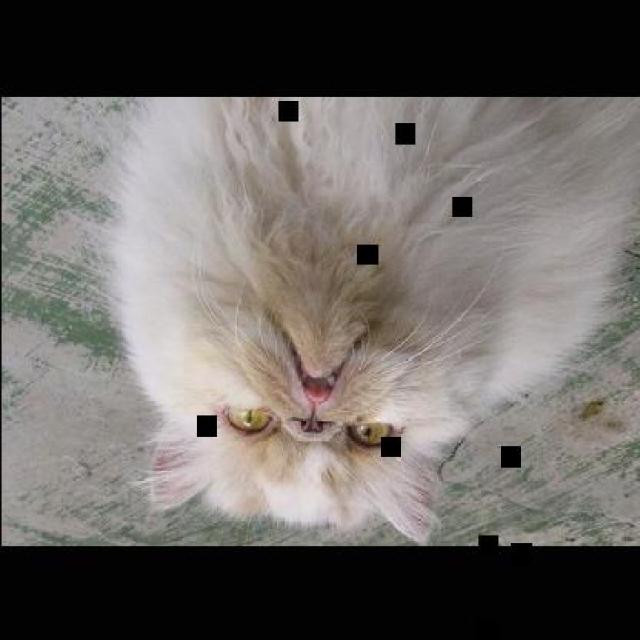unauthorized: (104, 94, 638, 543)
